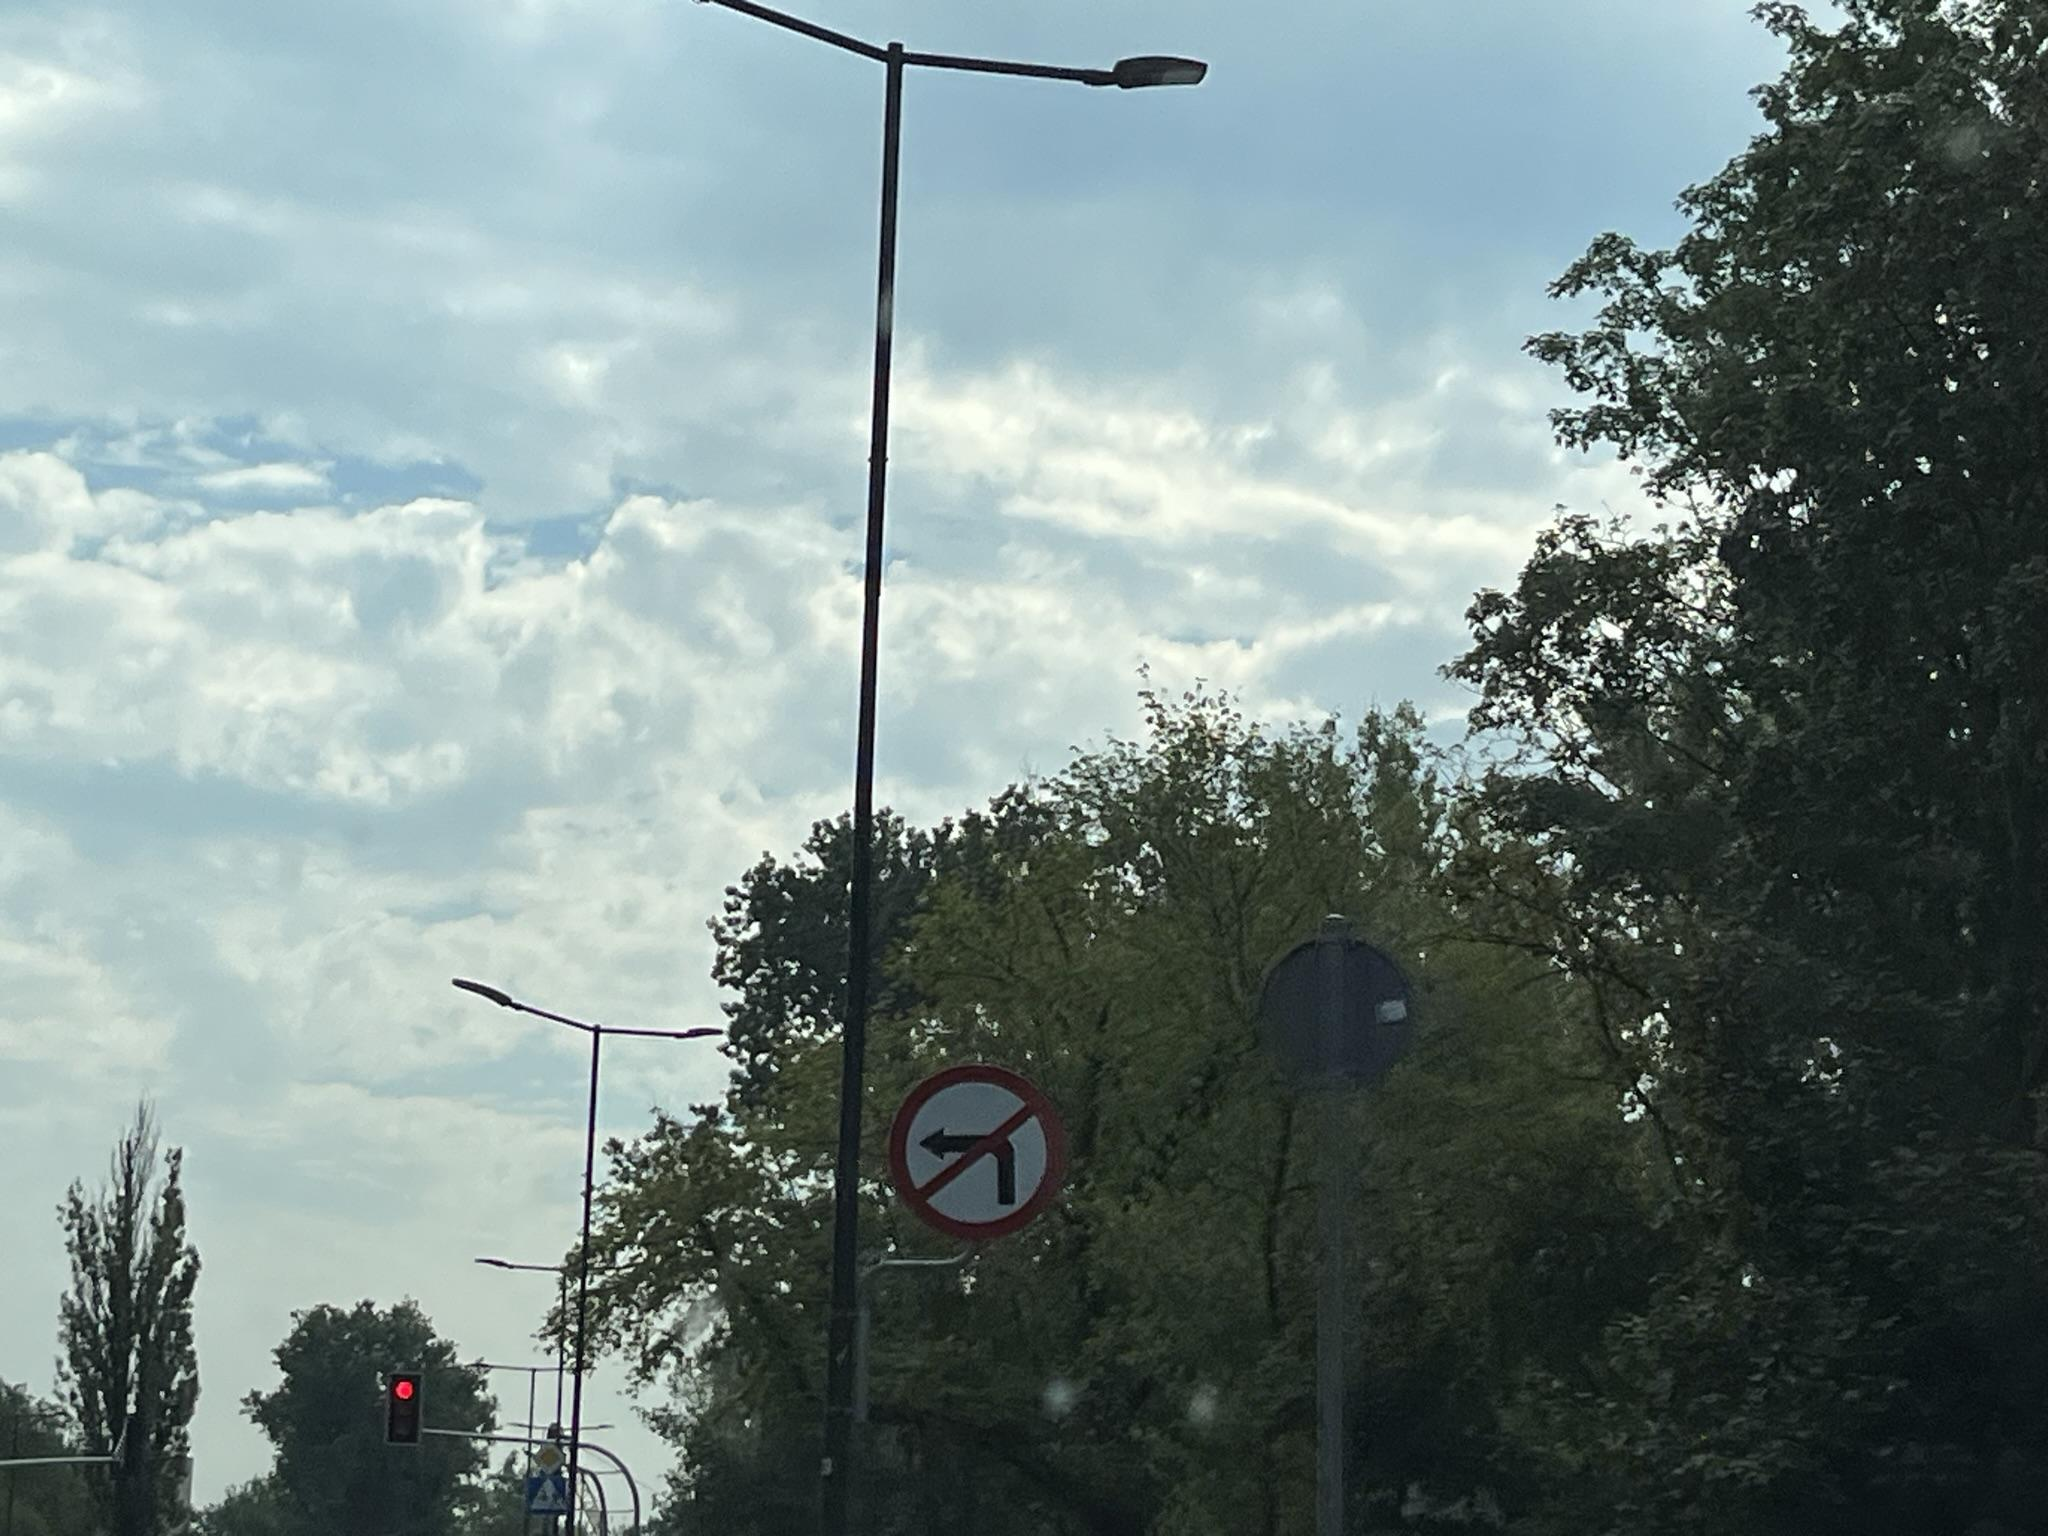prohibitory: (889, 1058, 1066, 1241)
